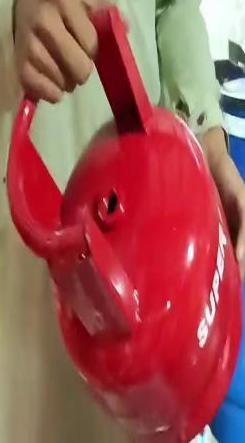cylinder: (0, 1, 245, 443)
